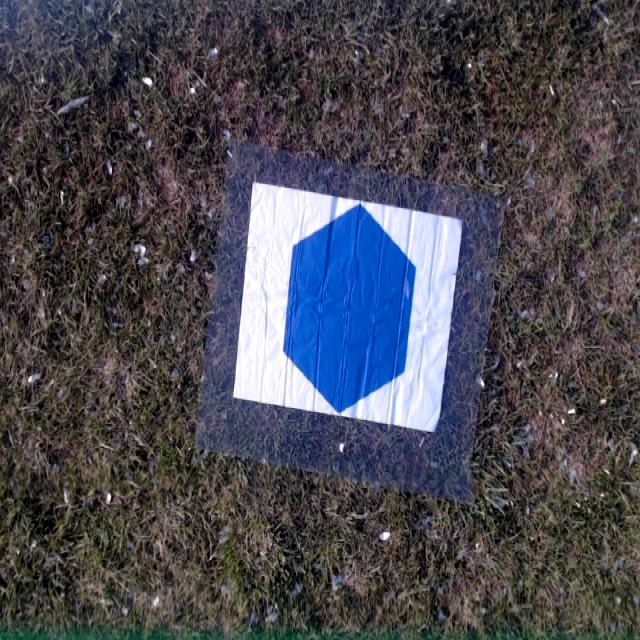blue_hexagon: (281, 205, 416, 412)
